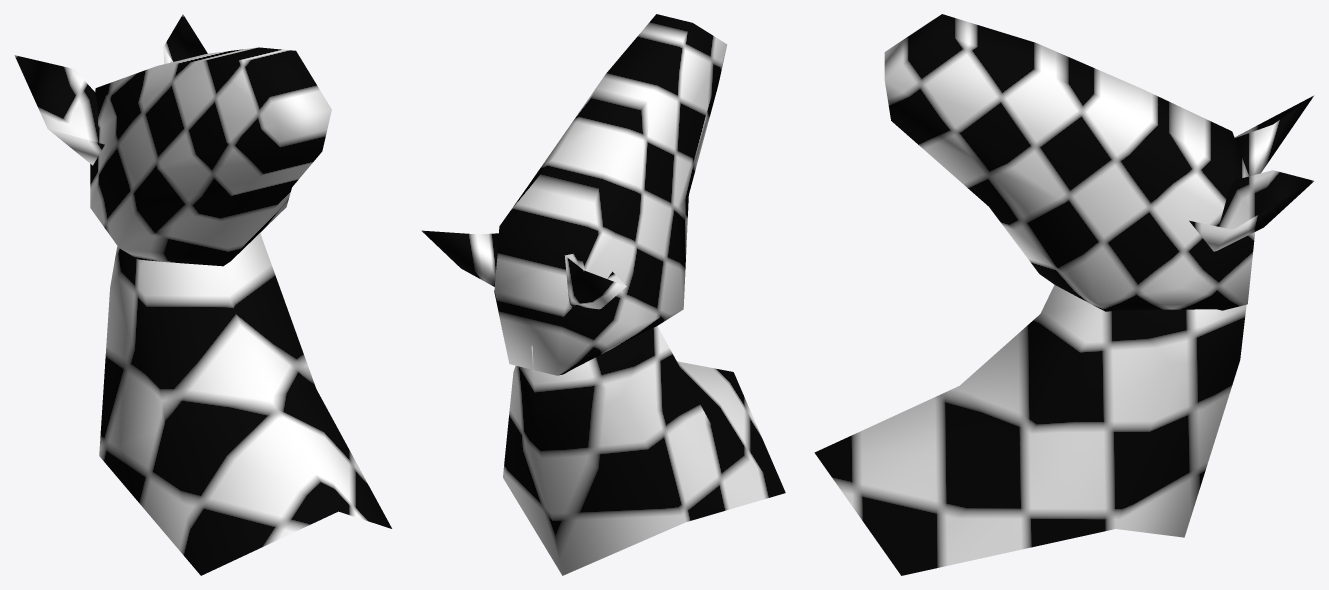
Rendered from infaunanhoho.dae.
The picture shows the model from 3 angles, left to right: view 1: azimuth 30°, elevation 25°; view 2: azimuth 150°, elevation 25°; view 3: azimuth 270°, elevation 25°; orthographic projection. The views are drawn at different scales.
Parts seen in each view (by area): view 1: face; view 2: face; view 3: face.
Part boxes in pixels (x1,y1,x2,y2): face: (14,14,391,575); face: (421,14,785,575); face: (814,14,1313,575).
Bounding box in the file's own units: 0.9114 × 1.98 × 2.24.
1 material, 1 textured.
